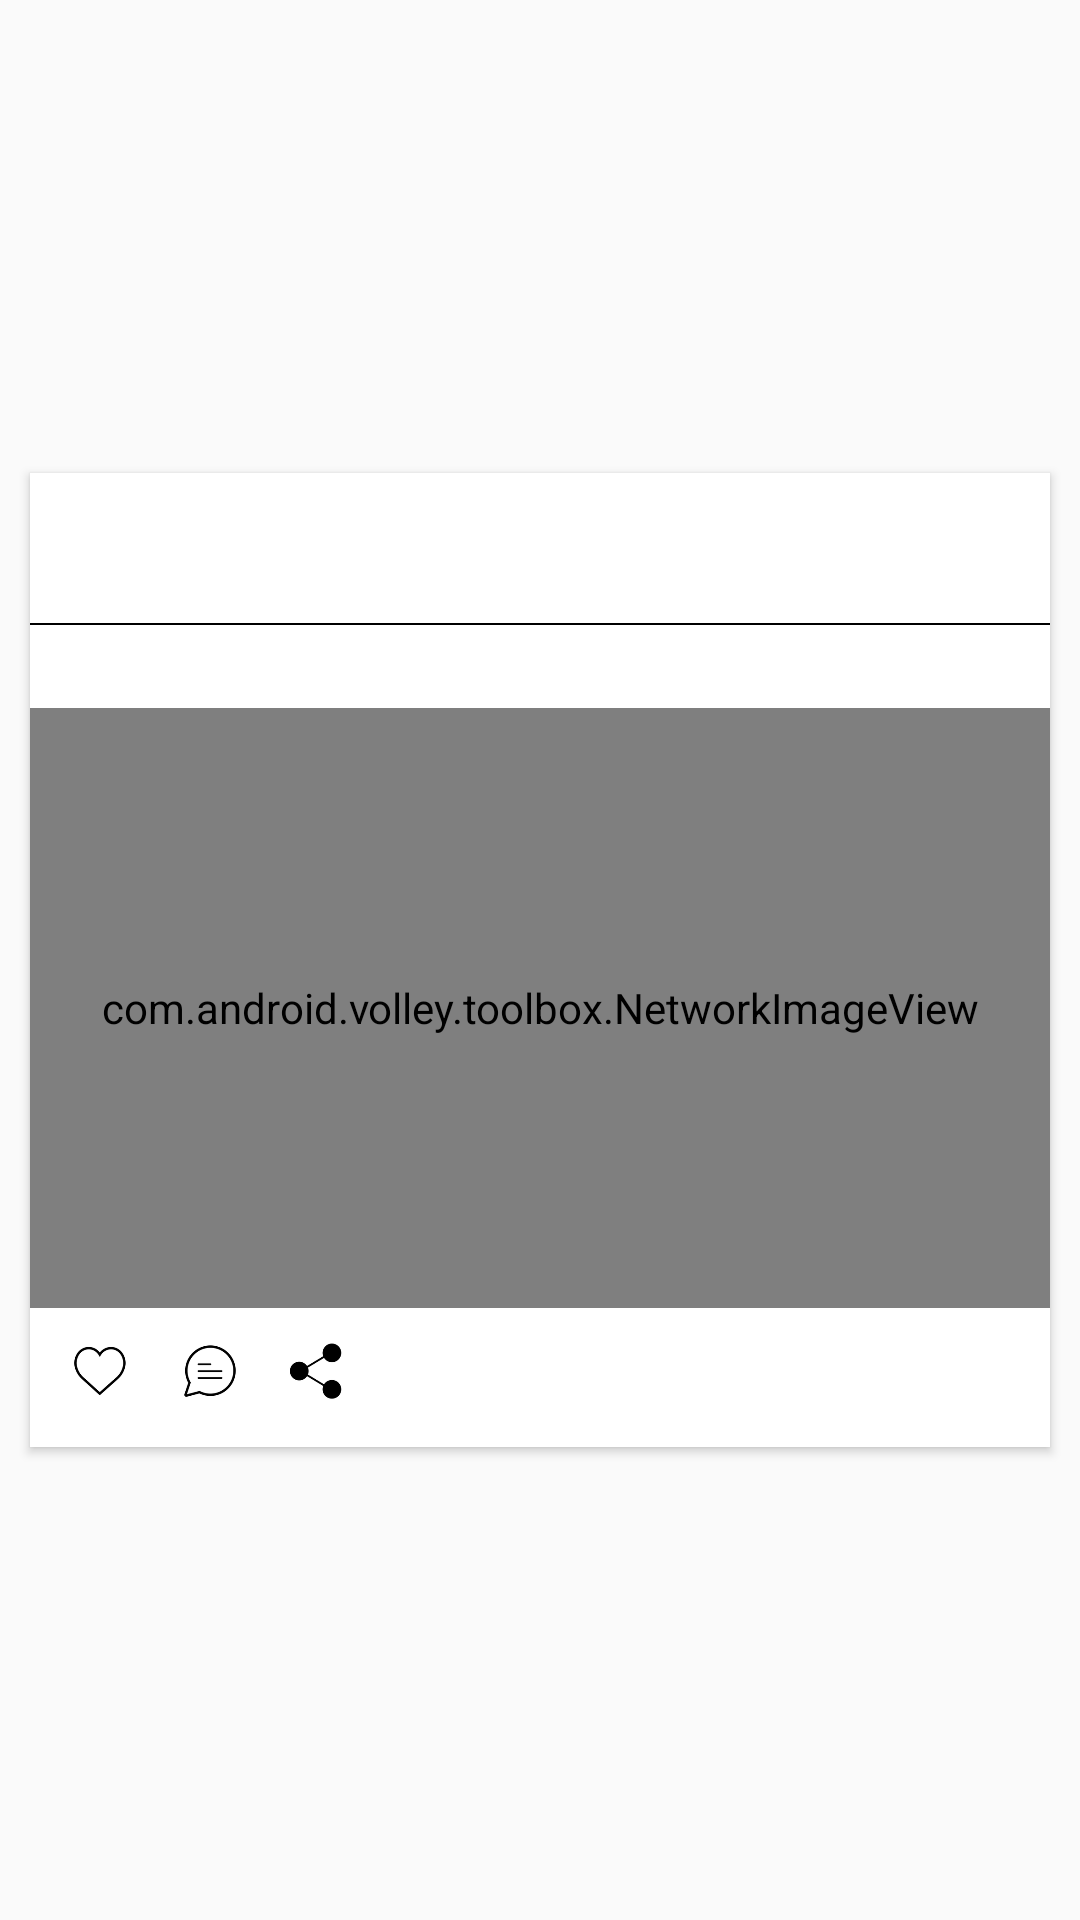

Named icons in this screenshot (1080 x 1920) and their centers, (x=x, y=y):
commentblack: (x=210, y=1371)
likeblack: (x=100, y=1371)
shareblack: (x=316, y=1371)
